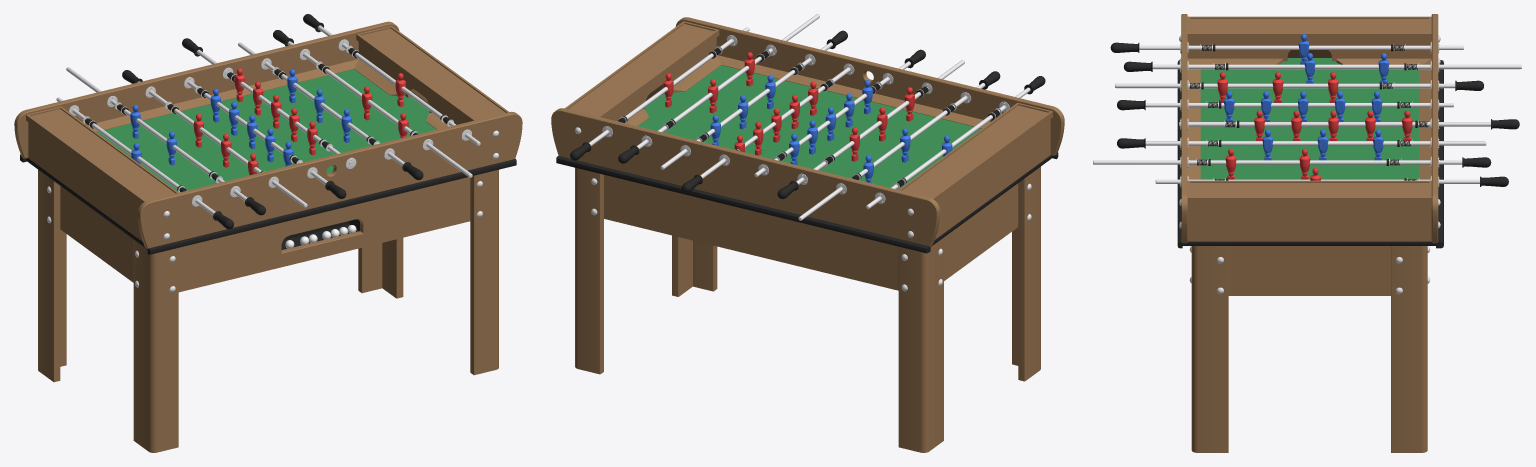
The model's file is futbolin_madrid.glb.
The picture shows the model from 3 angles, left to right: view 1: azimuth 30°, elevation 25°; view 2: azimuth 150°, elevation 25°; view 3: azimuth 270°, elevation 25°; orthographic projection.
Parts seen in each view (by area): view 1: Table_012, Table_008, Camp, Table_004, Table_009, Table_001, Table_013, Table_014, Table_007, Detail_04, Miter_01, Table_011 (+11 smaller); view 2: Table_012, Table_009, Camp, Table_005, Table_008, Table_001, Table_014, Table_013, Table_007, Detail_03, Miter_01, Table_011 (+12 smaller); view 3: Camp, Table_012, Table_000, Table_006, Table_016, Table_013, Table_014, Table_010, Table_011, Miter_01, Metal_02, Table_009 (+12 smaller).
Part boxes in pixels (bbox=[...]): Table_012: bbox=[38, 169, 498, 452]; Table_008: bbox=[137, 111, 522, 248]; Camp: bbox=[96, 69, 436, 191]; Table_004: bbox=[178, 177, 470, 292]; Table_009: bbox=[14, 21, 399, 158]; Table_001: bbox=[28, 122, 142, 241]; Table_013: bbox=[361, 28, 505, 119]; Table_014: bbox=[31, 109, 175, 200]; Table_007: bbox=[60, 186, 133, 282]; Detail_04: bbox=[147, 159, 516, 254]; Miter_01: bbox=[87, 59, 358, 131]; Table_011: bbox=[26, 106, 178, 204]; Table_012: bbox=[575, 166, 1040, 452]; Table_009: bbox=[551, 108, 940, 246]; Camp: bbox=[638, 65, 981, 188]; Table_005: bbox=[604, 175, 898, 290]; Table_008: bbox=[675, 17, 1064, 155]; Table_001: bbox=[935, 119, 1050, 239]; Table_014: bbox=[902, 105, 1047, 197]; Table_013: bbox=[568, 24, 713, 116]; Table_007: bbox=[944, 183, 1018, 280]; Detail_03: bbox=[556, 156, 930, 253]; Miter_01: bbox=[717, 55, 990, 128]; Table_011: bbox=[899, 102, 1052, 201]; Camp: bbox=[1200, 58, 1418, 179]; Table_012: bbox=[1191, 246, 1427, 452]; Table_000: bbox=[1187, 203, 1431, 241]; Table_006: bbox=[1228, 246, 1390, 295]; Table_016: bbox=[1187, 39, 1431, 61]; Table_013: bbox=[1190, 183, 1429, 196]; Table_014: bbox=[1190, 19, 1429, 32]; Table_010: bbox=[1187, 180, 1431, 203]; Table_011: bbox=[1187, 16, 1431, 39]; Miter_01: bbox=[1187, 59, 1431, 179]; Metal_02: bbox=[1152, 64, 1521, 69]; Table_009: bbox=[1431, 14, 1438, 243].
Size of what is drawn, in the model's own units: 1.4 by 0.9097 by 1.34.
